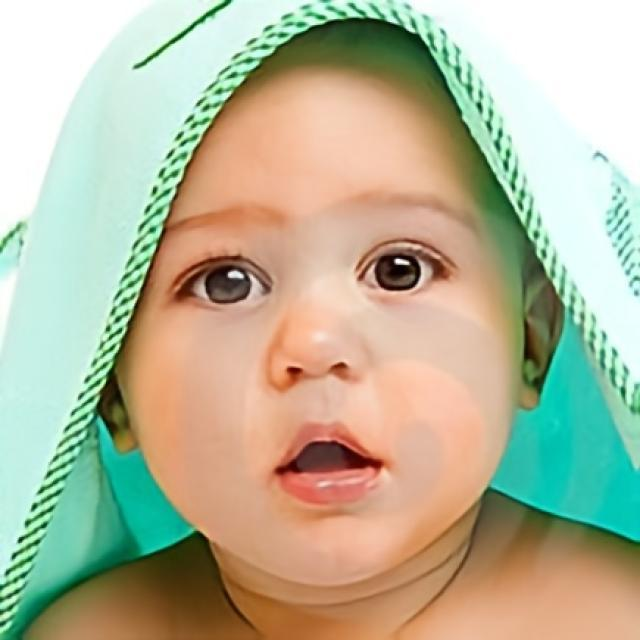surprise: (115, 18, 526, 587)
